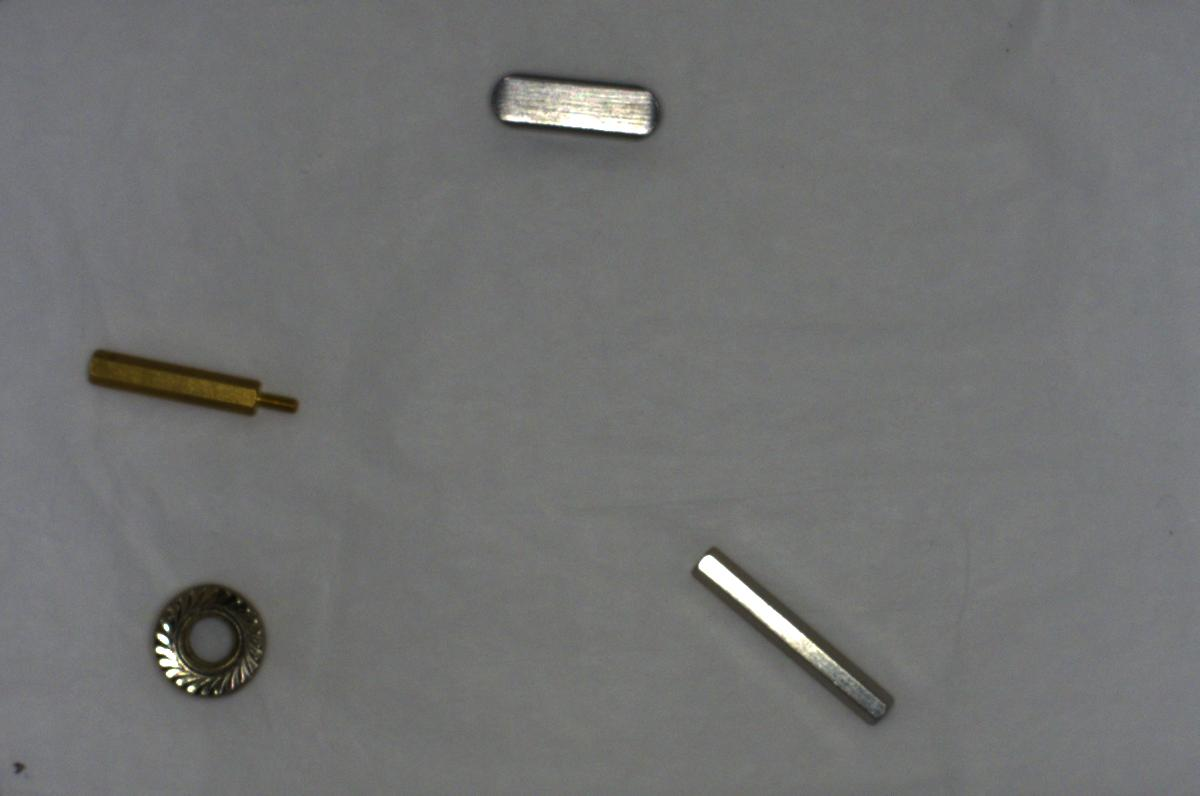Double hexagonal column: (684, 536, 895, 730)
Flange nut: (147, 578, 274, 703)
Hexagon pillar: (79, 343, 306, 430)
Keybar: (486, 61, 667, 145)
